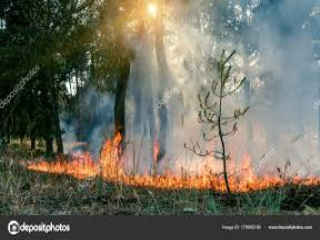fire: (24, 134, 313, 192)
smoke: (246, 9, 316, 163)
